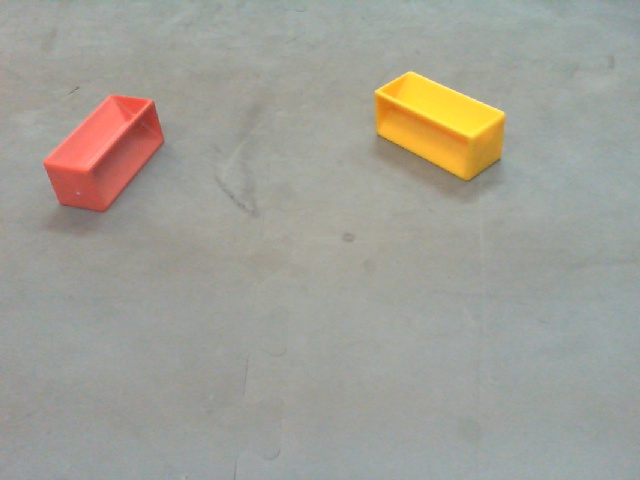RedSample: (43, 91, 164, 211)
YellowSample: (372, 69, 508, 186)
